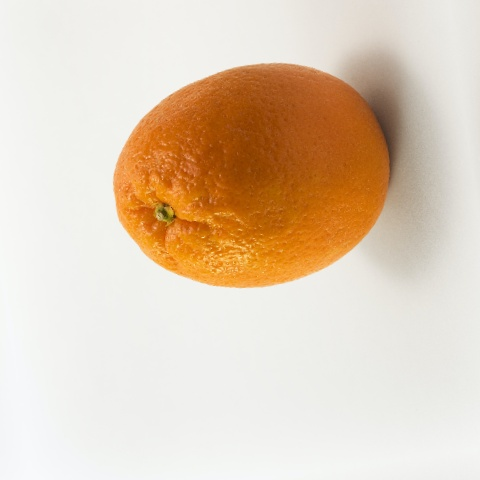orange: (58, 0, 443, 346)
